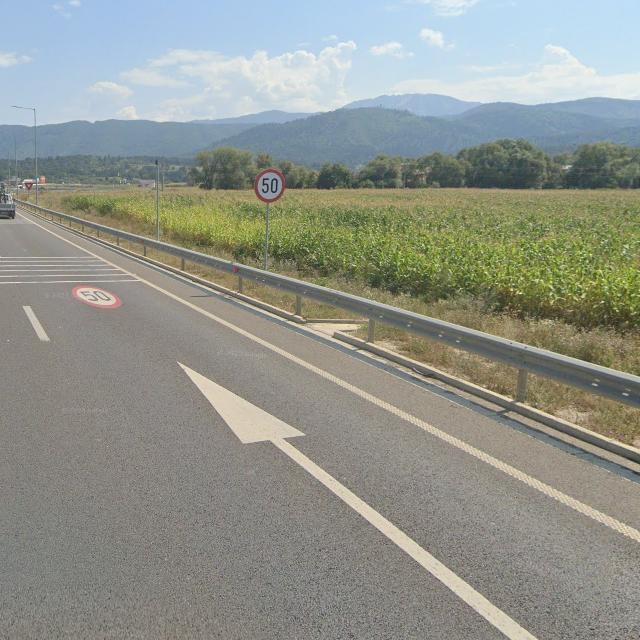forb_speed_over_50: (69, 284, 125, 312), (251, 168, 286, 203)
prio_give_way: (24, 183, 34, 191)
